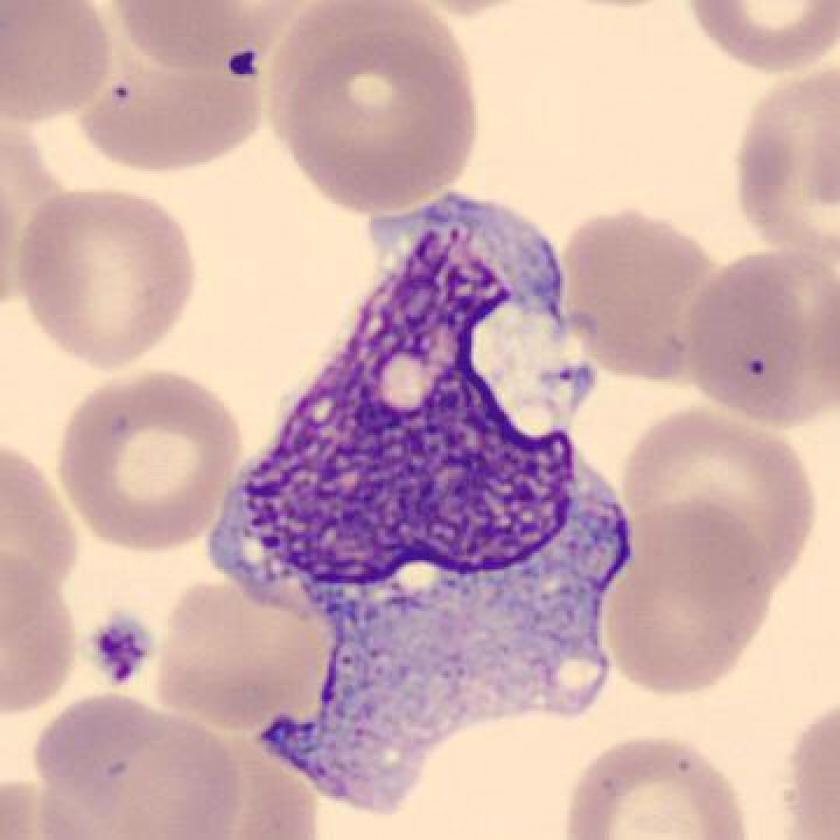monocyte: (195, 175, 645, 825)
